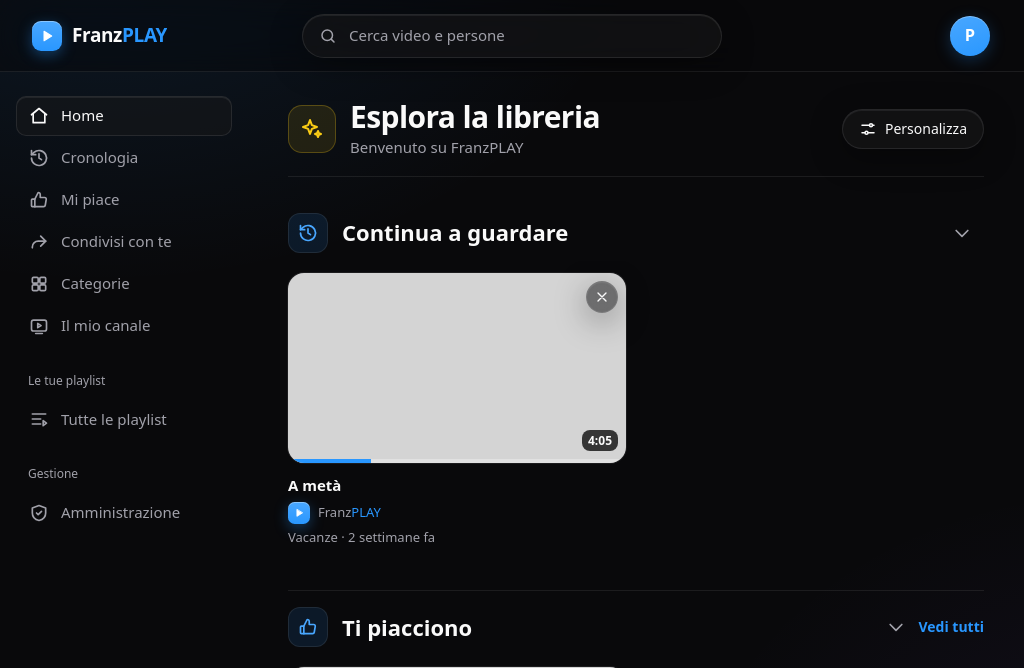
Test: home rows › closes a row by its title and remembers it on the server
The width and height of the screenshot is (1024, 668).
Click the button "Ti piacciono" at (308, 627), box [280,600,914,656]
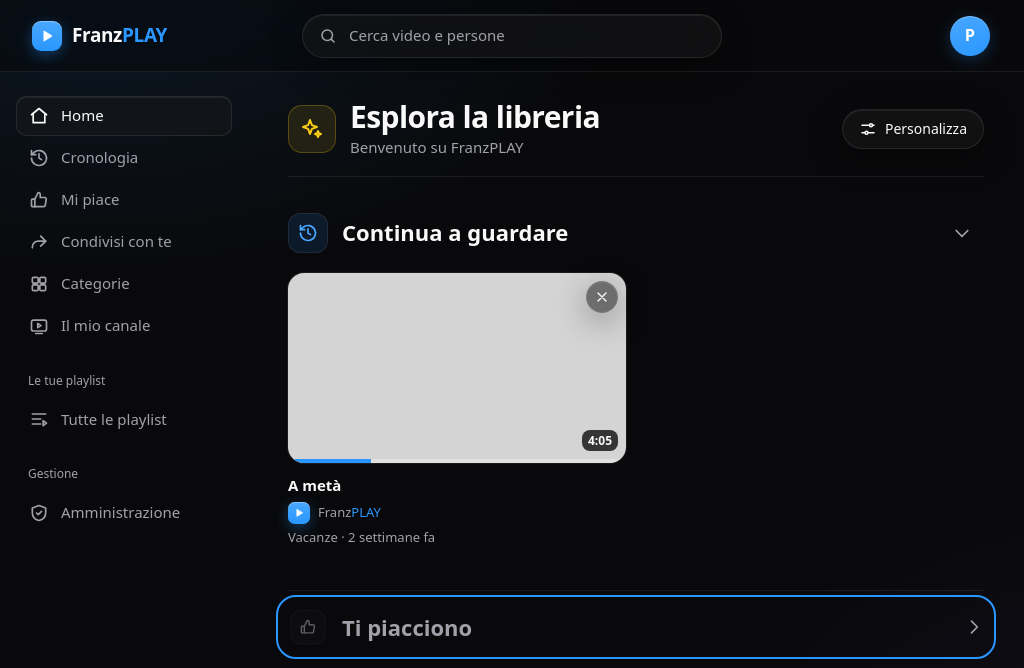
Expected: the heading "A metà" is shown, [288,475,341,495]
Result: the button "Ti piacciono" is collapsed at [280,600,992,656]
Result: the link "Vedi tutti" is gone
